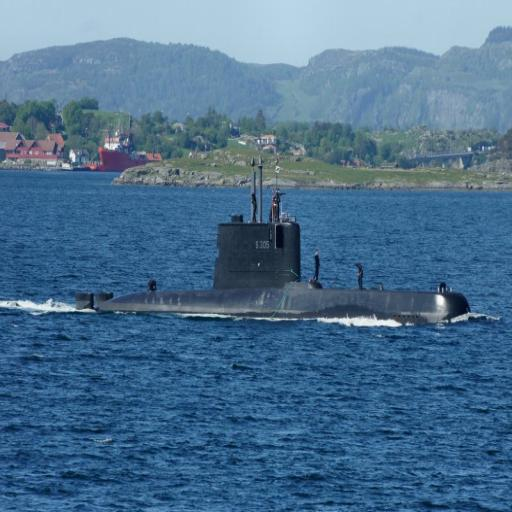submarine: (77, 155, 474, 312)
